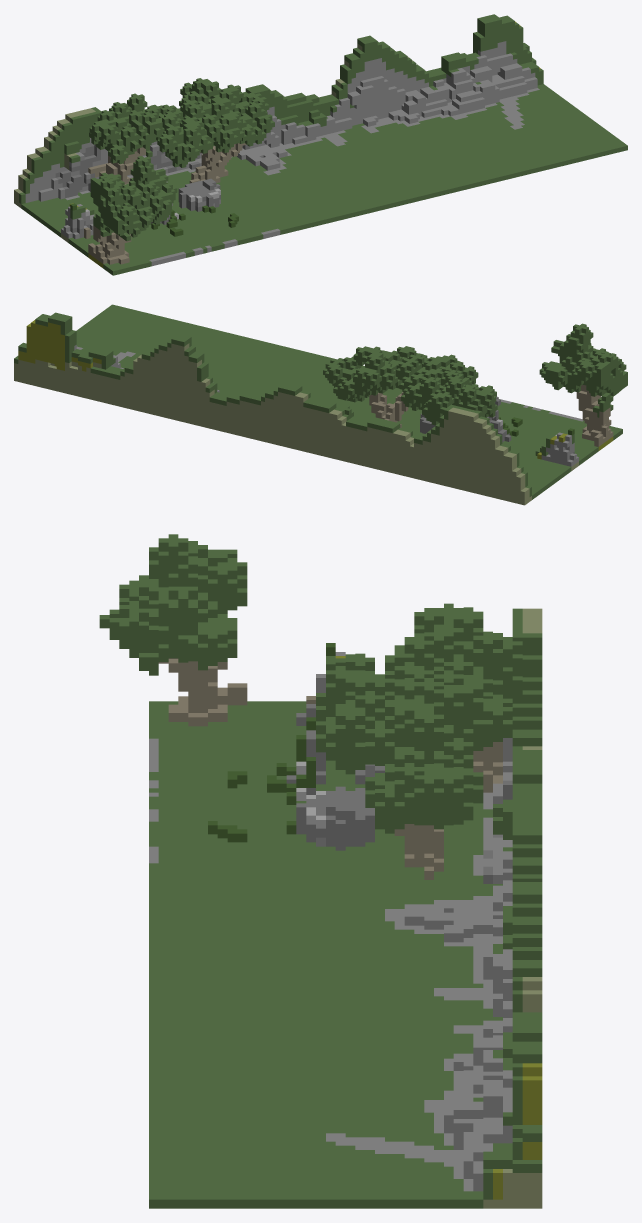
Rendered from TestLife.obj.
The picture shows the model from 3 angles, top to bottom: view 1: azimuth 30°, elevation 25°; view 2: azimuth 150°, elevation 25°; view 3: azimuth 270°, elevation 25°; orthographic projection. The views are drawn at different scales.
Bounding box in the file's own units: 120 × 23 × 45.
1 material, 1 textured.
